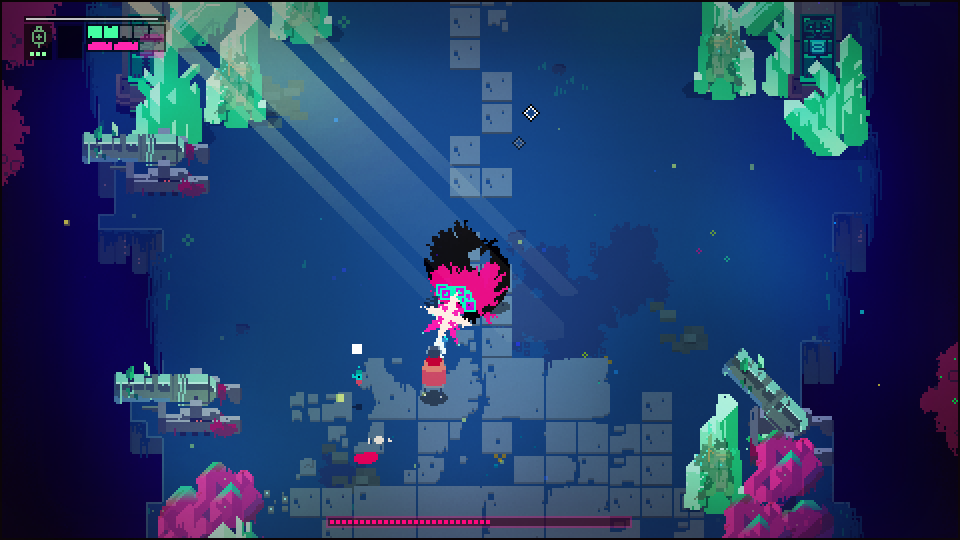player: (417, 345, 455, 403)
